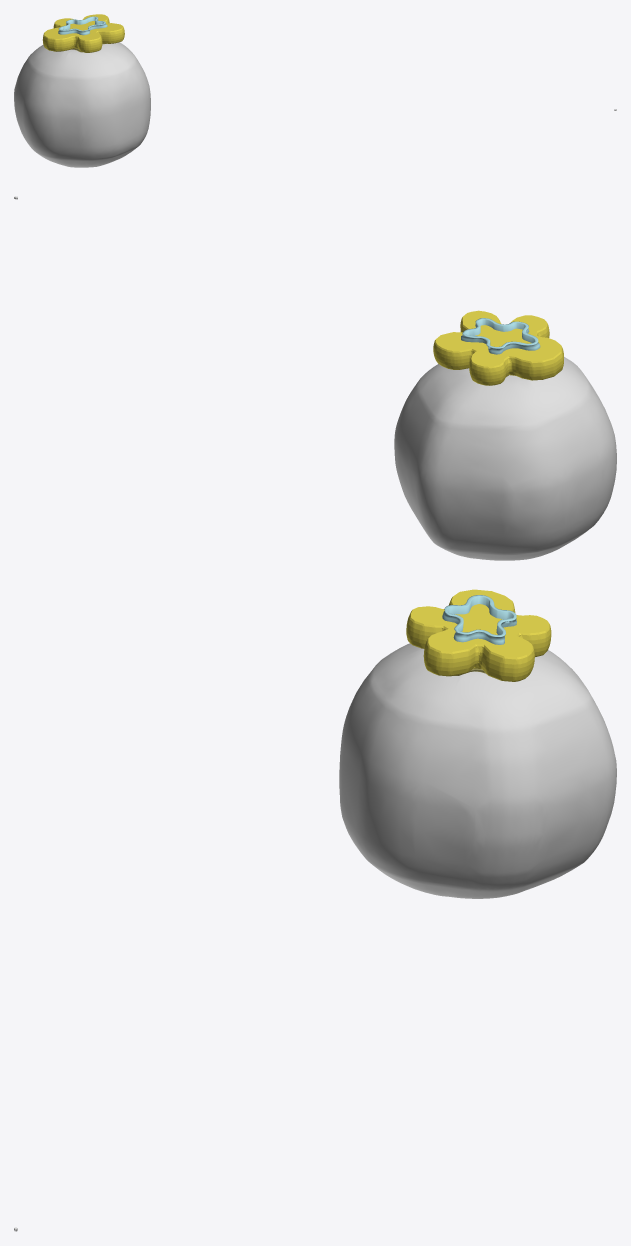
Rendered from flower25.glb.
The picture shows the model from 3 angles, top to bottom: view 1: azimuth 30°, elevation 25°; view 2: azimuth 150°, elevation 25°; view 3: azimuth 270°, elevation 25°; orthographic projection. The views are drawn at different scales.
Parts seen in each view (by area): view 1: Cylinder.045, Plane.198, Plane.199; view 2: Cylinder.045, Plane.198, Plane.199; view 3: Cylinder.045, Plane.198, Plane.199.
Boxes of the visible parts, box(x1,y1,x2,y2) form: Cylinder.045: box(14, 42, 150, 167); Plane.198: box(42, 14, 124, 52); Plane.199: box(58, 16, 107, 35); Cylinder.045: box(394, 357, 616, 560); Plane.198: box(433, 310, 563, 385); Plane.199: box(461, 318, 540, 354); Cylinder.045: box(339, 643, 616, 898); Plane.198: box(406, 589, 551, 681); Plane.199: box(442, 595, 516, 644).
Size of the model in its own units: 323 by 85.97 by 176.
